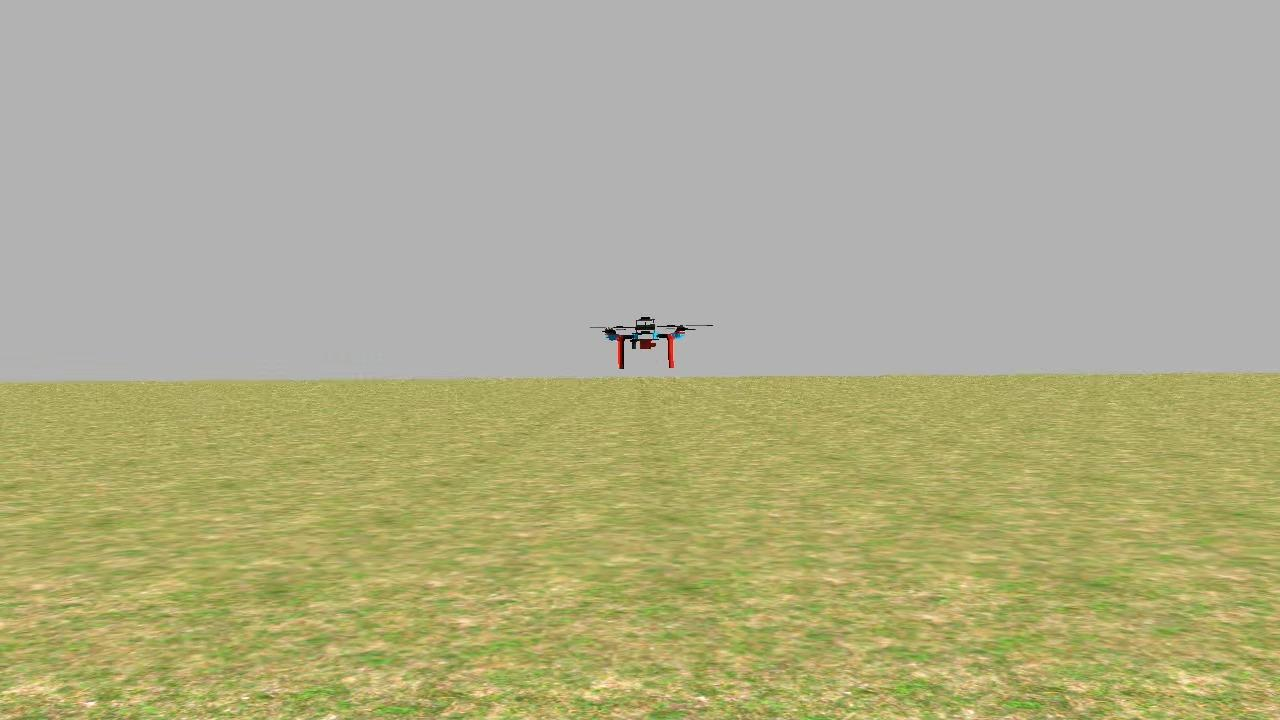UAV: (590, 300, 700, 372)
